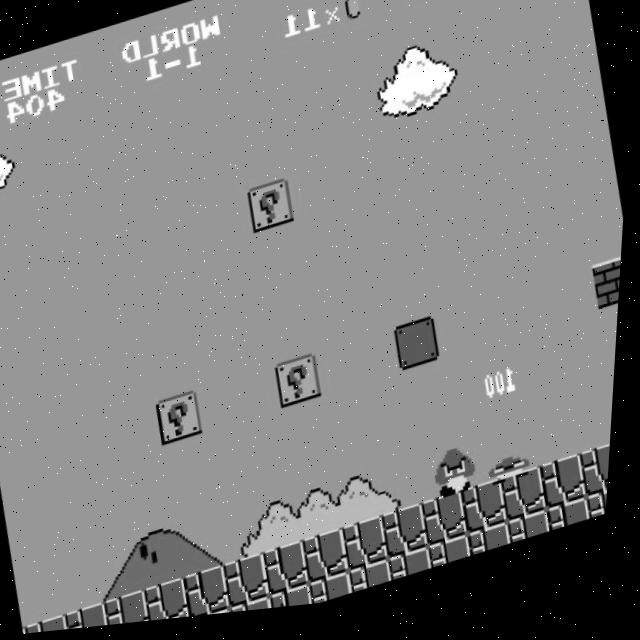1- brick_block: (594, 268, 625, 323)
11- little_mario: (452, 382, 506, 442)
13- mystery_block: (277, 358, 329, 416), (158, 392, 210, 450), (247, 182, 299, 239)
17- undestructible_block: (543, 464, 596, 523), (464, 488, 517, 546), (306, 534, 359, 592), (504, 476, 556, 534), (425, 499, 477, 557), (385, 511, 437, 569), (346, 522, 398, 580), (267, 545, 319, 603), (227, 557, 279, 615), (187, 568, 240, 622), (148, 579, 200, 625), (109, 591, 161, 629), (583, 455, 616, 511), (552, 509, 598, 544), (473, 532, 519, 567), (394, 555, 440, 590), (512, 521, 559, 555), (433, 544, 480, 578), (314, 578, 361, 612), (354, 567, 400, 601), (70, 603, 121, 632), (275, 589, 321, 615), (31, 614, 82, 635), (236, 601, 282, 618), (591, 499, 614, 532)
3- empty_block: (395, 323, 448, 381)
8- goomba: (435, 449, 490, 510)
